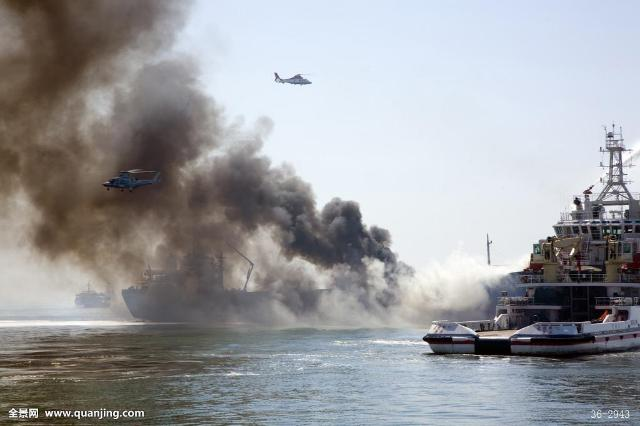smoke: (22, 7, 96, 186), (253, 225, 392, 286), (41, 199, 352, 223), (110, 73, 190, 158), (170, 158, 284, 194), (117, 9, 163, 39)
